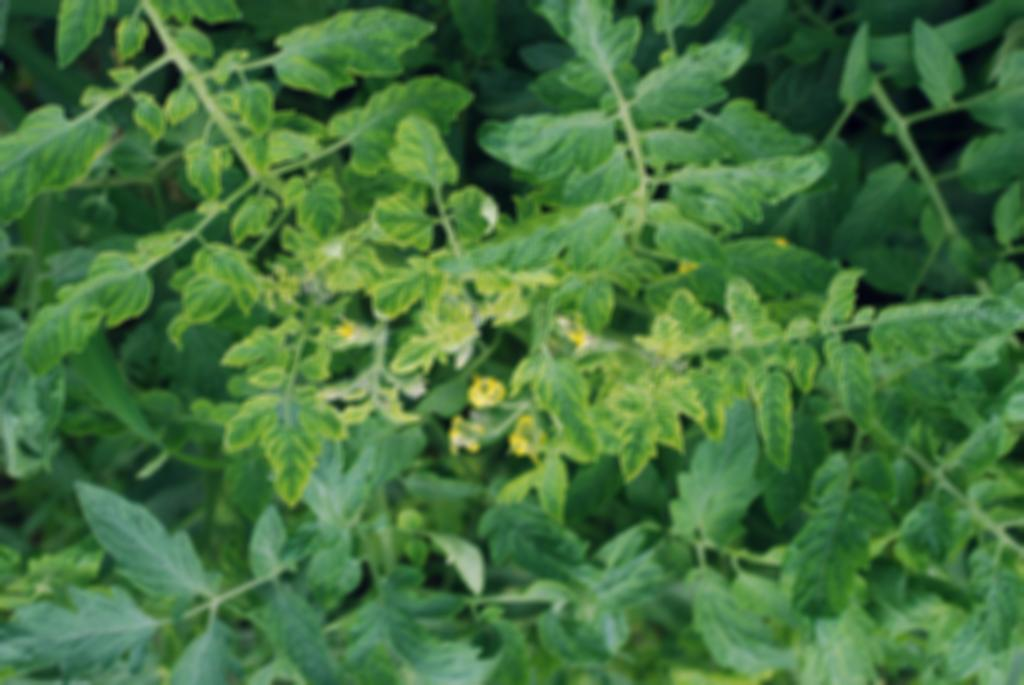Tomato leaf yellow virus: (24, 247, 146, 383), (327, 76, 480, 183), (272, 6, 442, 92), (470, 191, 626, 284), (1, 100, 107, 223), (870, 288, 1024, 360), (637, 27, 752, 118), (480, 109, 622, 178), (532, 350, 601, 464), (257, 418, 333, 507), (641, 277, 711, 363), (280, 163, 352, 245), (749, 367, 799, 478), (389, 111, 461, 185), (375, 250, 444, 323), (223, 384, 293, 454), (649, 216, 735, 268), (368, 191, 438, 253), (611, 405, 662, 487), (196, 236, 262, 298), (812, 269, 869, 333), (445, 184, 498, 243), (717, 270, 766, 332), (221, 325, 288, 369), (125, 86, 171, 150), (228, 190, 279, 247), (575, 275, 621, 335), (237, 74, 278, 137), (182, 140, 222, 203), (386, 340, 445, 378), (115, 5, 152, 65), (164, 84, 204, 129)
